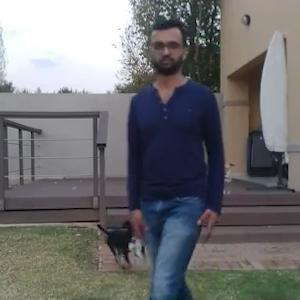follow: (108, 41, 204, 299)
